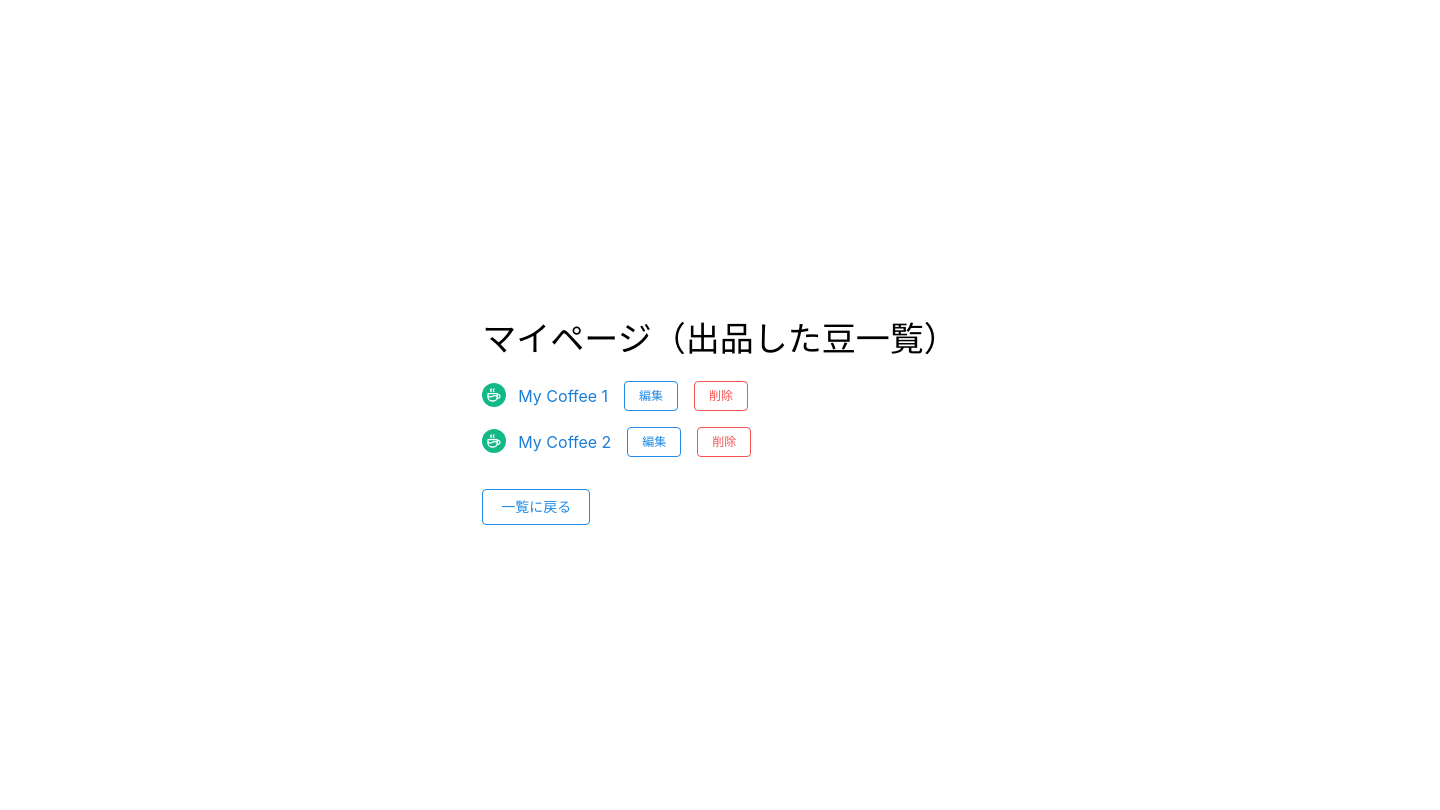
MyBeansPage › 豆の削除処理が成功し、リストから削除される
Expected: the text "My Coffee 1" is shown, left=518, top=386, right=608, bottom=406
Expected: the text "My Coffee 2" is shown, left=518, top=432, right=611, bottom=452
Note: 1つ目の豆の削除ボタンをクリック
Click the button "削除" in the row of "My Coffee 1": (721, 396) left=694, top=381, right=748, bottom=411
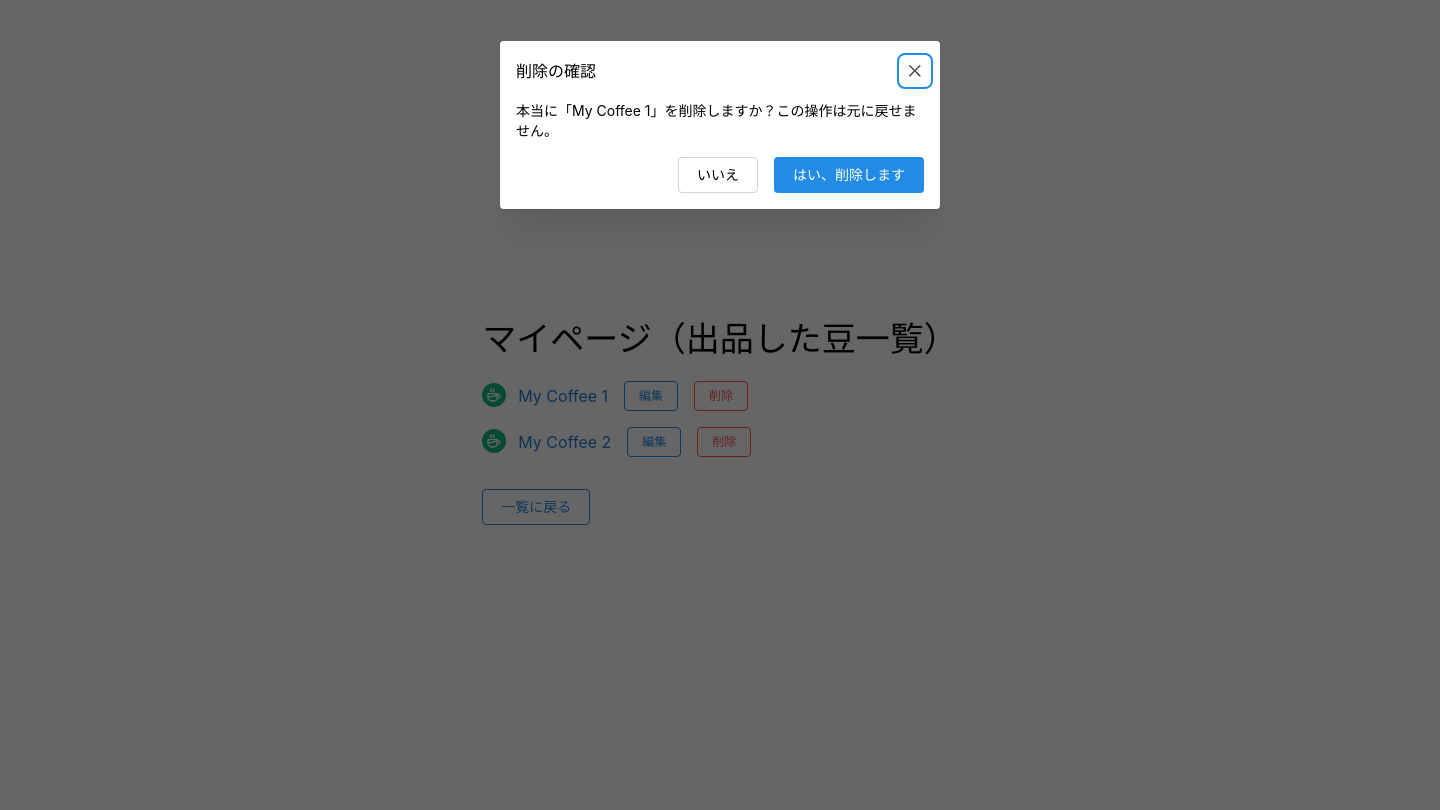
Expected: the text "本当に「My Coffee 1」を削除しますか？この操作は元に戻せません。" is shown, left=516, top=100, right=924, bottom=141
Note: モーダルの削除ボタンをクリック
Click the button "はい、削除します": (849, 175) left=774, top=157, right=924, bottom=193
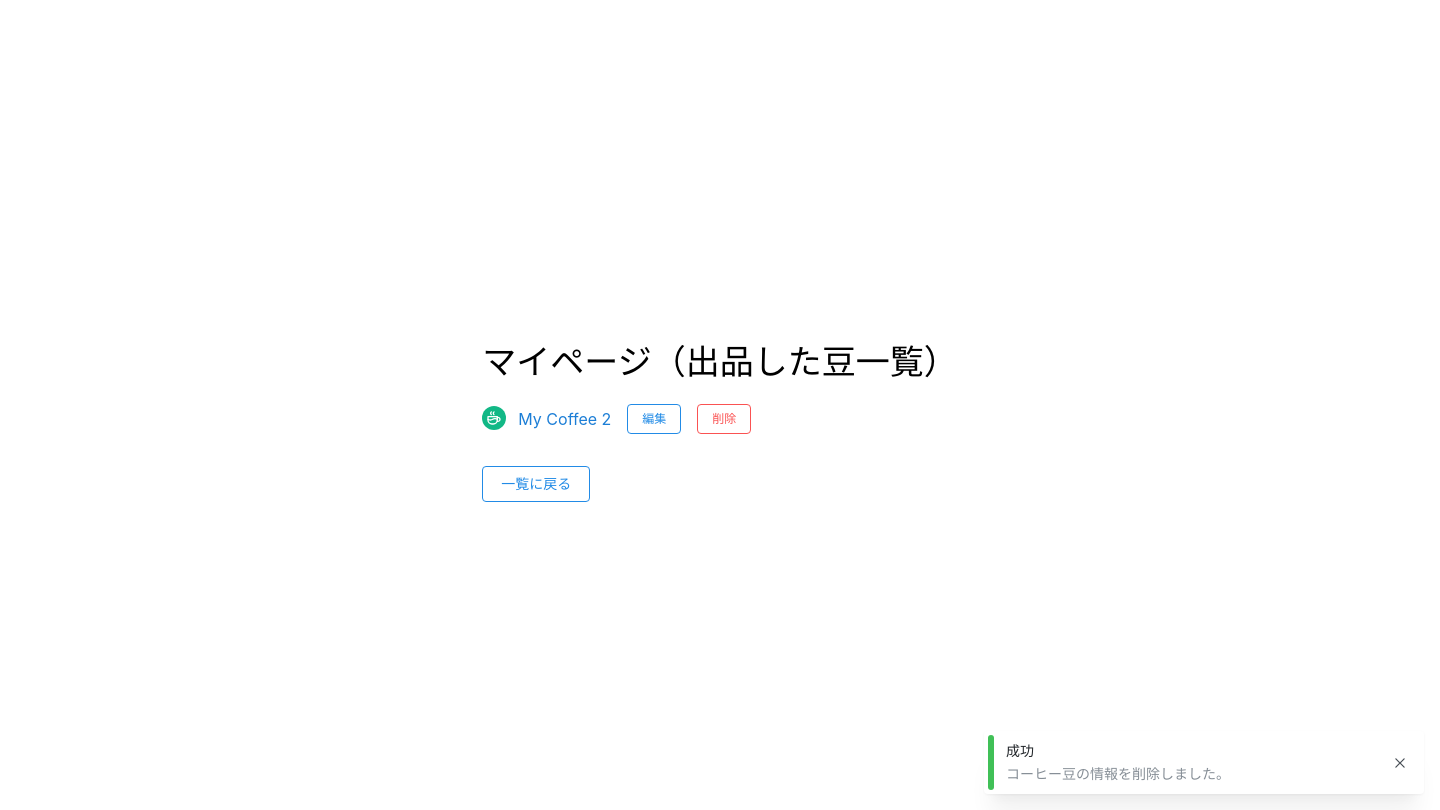
Expected: the text "My Coffee 2" is shown, left=518, top=409, right=611, bottom=429
Expected: the link "My Coffee 1" is gone
Expected: the text "コーヒー豆の情報を削除しました。" is shown, left=1006, top=765, right=1230, bottom=782
